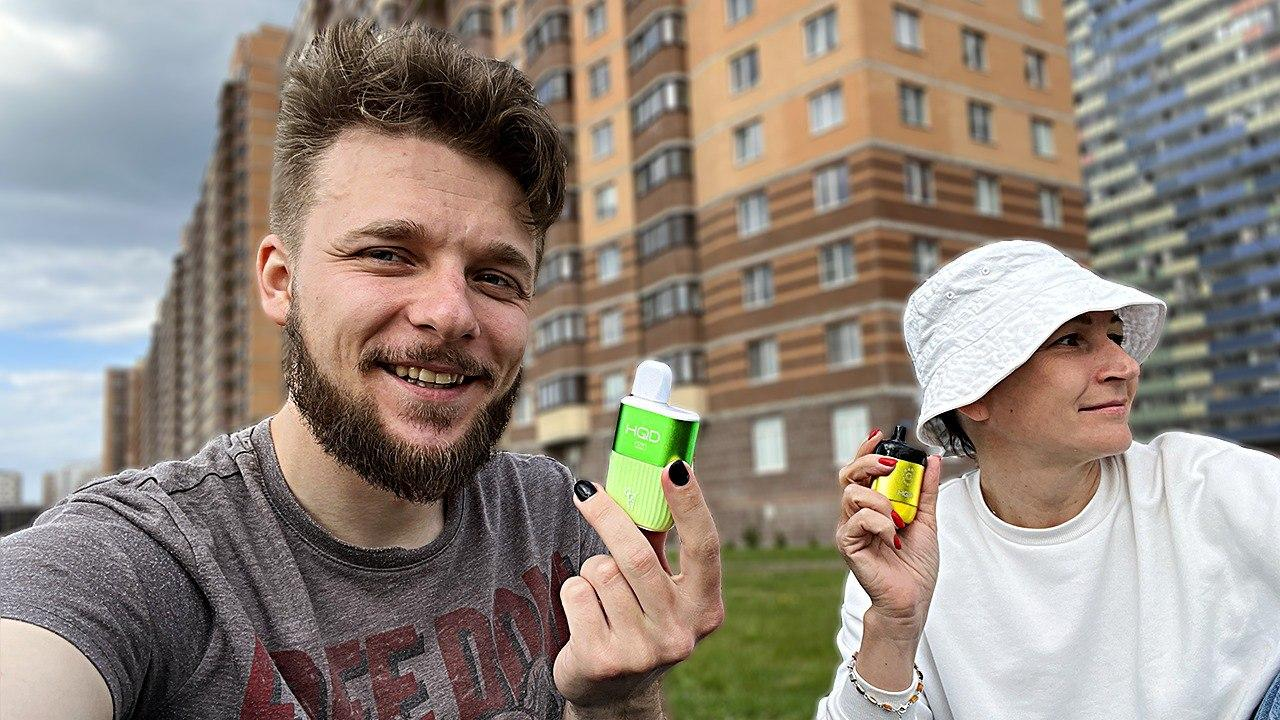Vape: (606, 361, 700, 531), (870, 424, 928, 524)
